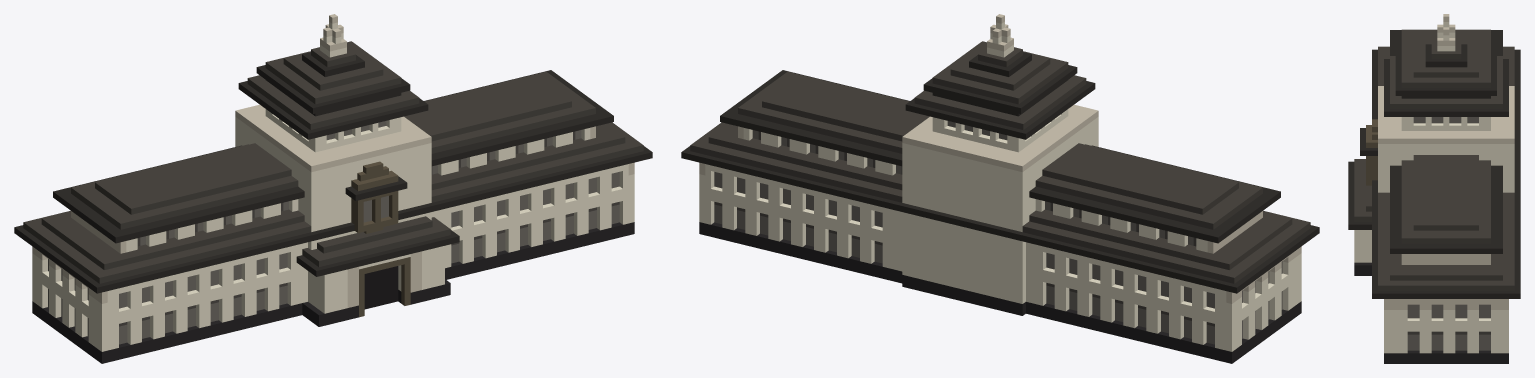
The model's file is museum-gedung-sate.glb.
The picture shows the model from 3 angles, left to right: view 1: azimuth 30°, elevation 25°; view 2: azimuth 150°, elevation 25°; view 3: azimuth 270°, elevation 25°; orthographic projection. The views are drawn at different scales.
Visible parts, largest first — view 1: VoxelGedungSate; view 2: VoxelGedungSate; view 3: VoxelGedungSate.
Part boxes in pixels (x1=…): VoxelGedungSate: x1=14, y1=14, x2=652, y2=363; VoxelGedungSate: x1=681, y1=14, x2=1319, y2=363; VoxelGedungSate: x1=1348, y1=14, x2=1520, y2=363.
Bounding box in the file's own units: 97 × 43 × 29.
